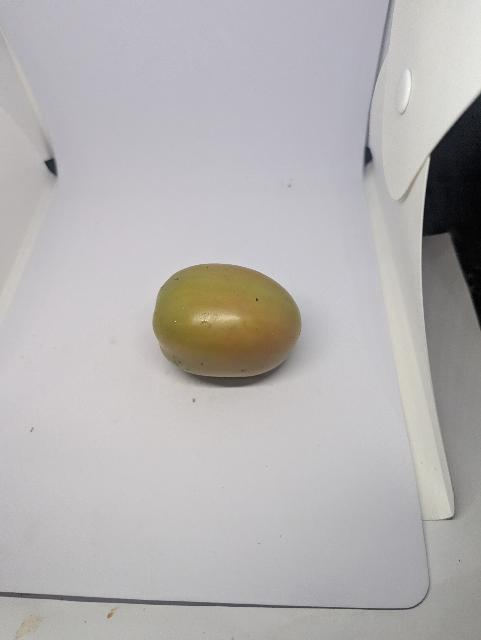breaker: (148, 260, 305, 384)
